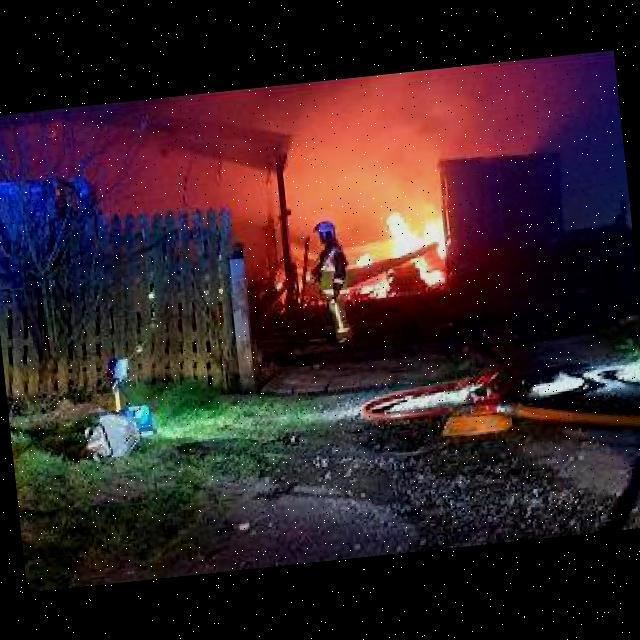Fire: (385, 202, 455, 290), (358, 275, 392, 300), (346, 251, 371, 267)
